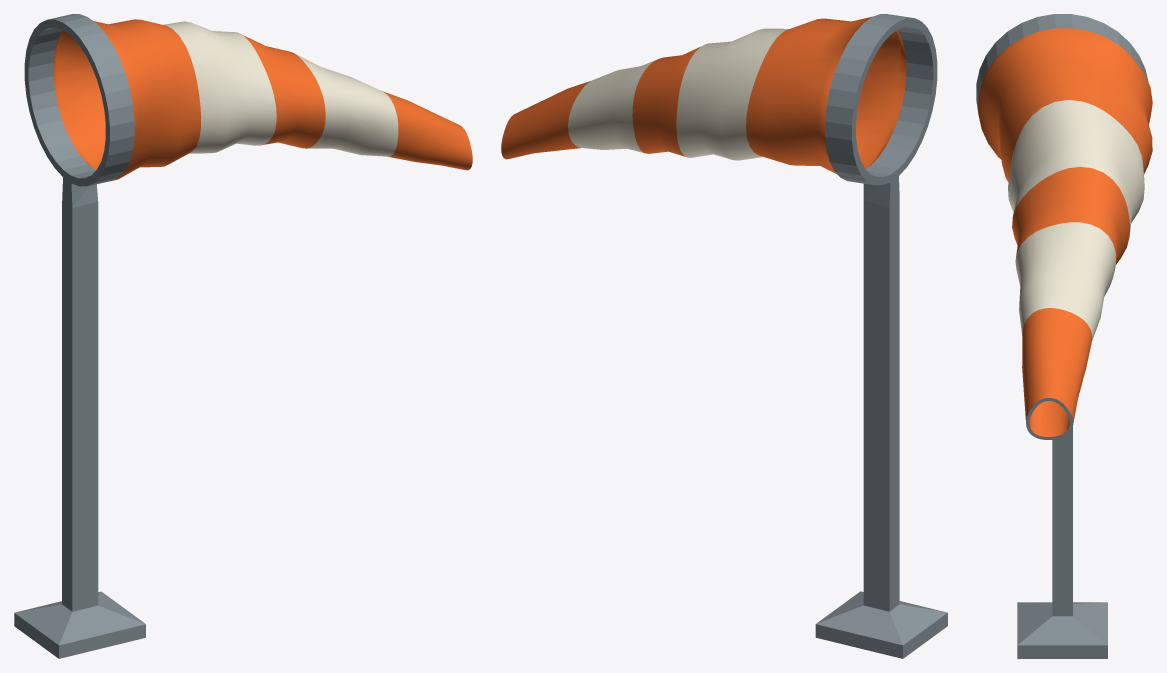
The model's file is NEW_RECOVERY_092_LOD0.fbx.
3 renders of one model, left to right at view 1: azimuth 30°, elevation 25°; view 2: azimuth 150°, elevation 25°; view 3: azimuth 270°, elevation 25°, orthographic.
Parts seen in each view (by area): view 1: WholeWindsock; view 2: WholeWindsock; view 3: WholeWindsock.
Boxes of the visible parts, <box> form: WholeWindsock: <box>14,14,472,658</box>; WholeWindsock: <box>501,14,947,658</box>; WholeWindsock: <box>976,14,1152,658</box>.
Bounding box in the file's own units: 259 × 93.53 × 361.
